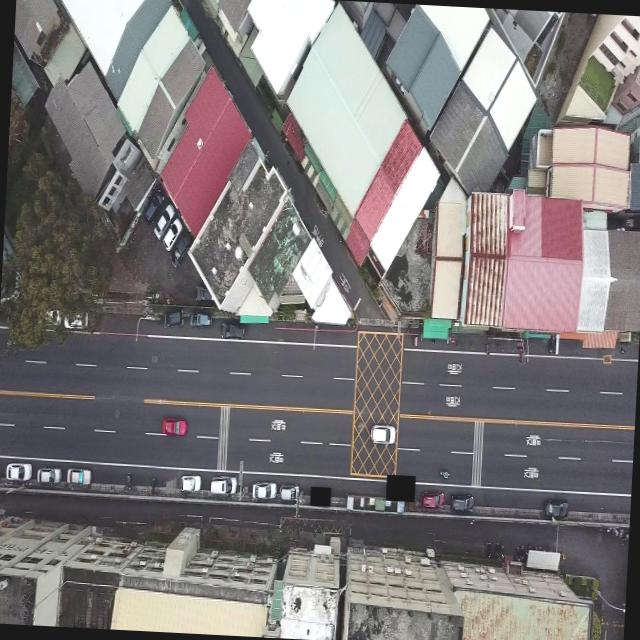car: (217, 310, 248, 342), (150, 202, 174, 242), (162, 215, 185, 254), (144, 190, 164, 222), (370, 423, 397, 446), (172, 234, 190, 268), (251, 479, 278, 501), (5, 461, 33, 482), (210, 474, 239, 494), (420, 488, 444, 510), (544, 497, 568, 518), (38, 464, 62, 484), (162, 416, 187, 435), (278, 481, 300, 502), (450, 493, 474, 512), (68, 467, 92, 484), (180, 473, 202, 491), (189, 311, 212, 328), (165, 306, 182, 327)
